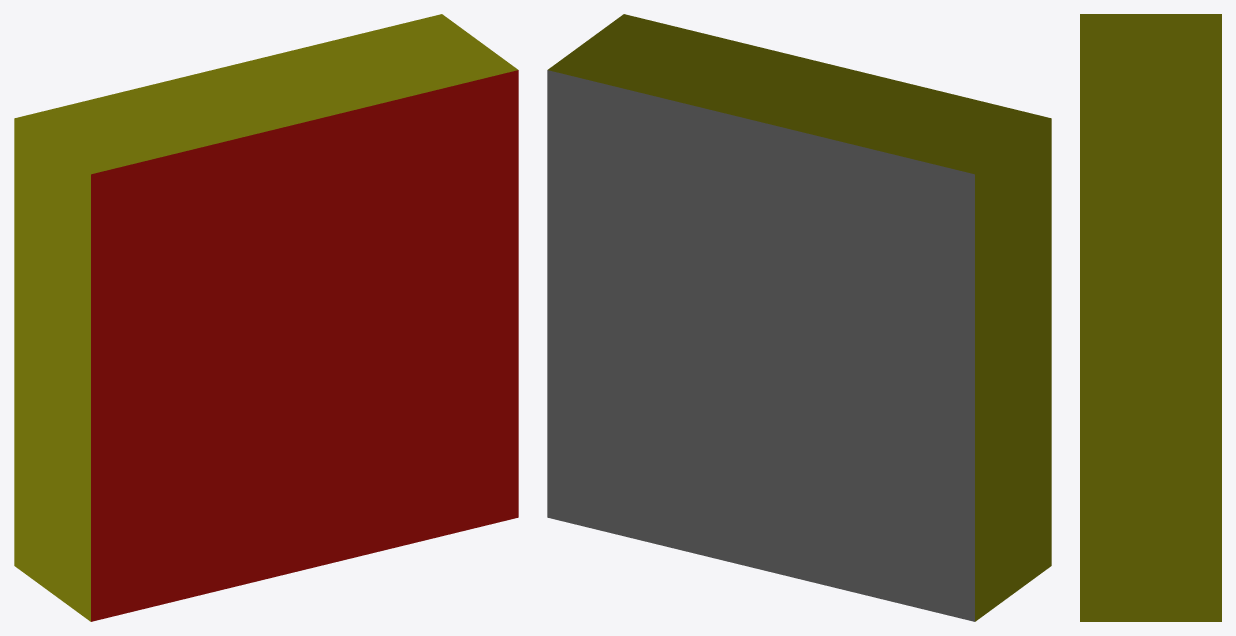
The model's file is idf.obj.
3 views of the same model, side by side, from view 1: azimuth 30°, elevation 25°; view 2: azimuth 150°, elevation 25°; view 3: azimuth 270°, elevation 25° (orthographic). The views are drawn at different scales.
Bounding box in the file's own units: 10 × 10 × 3.1.
